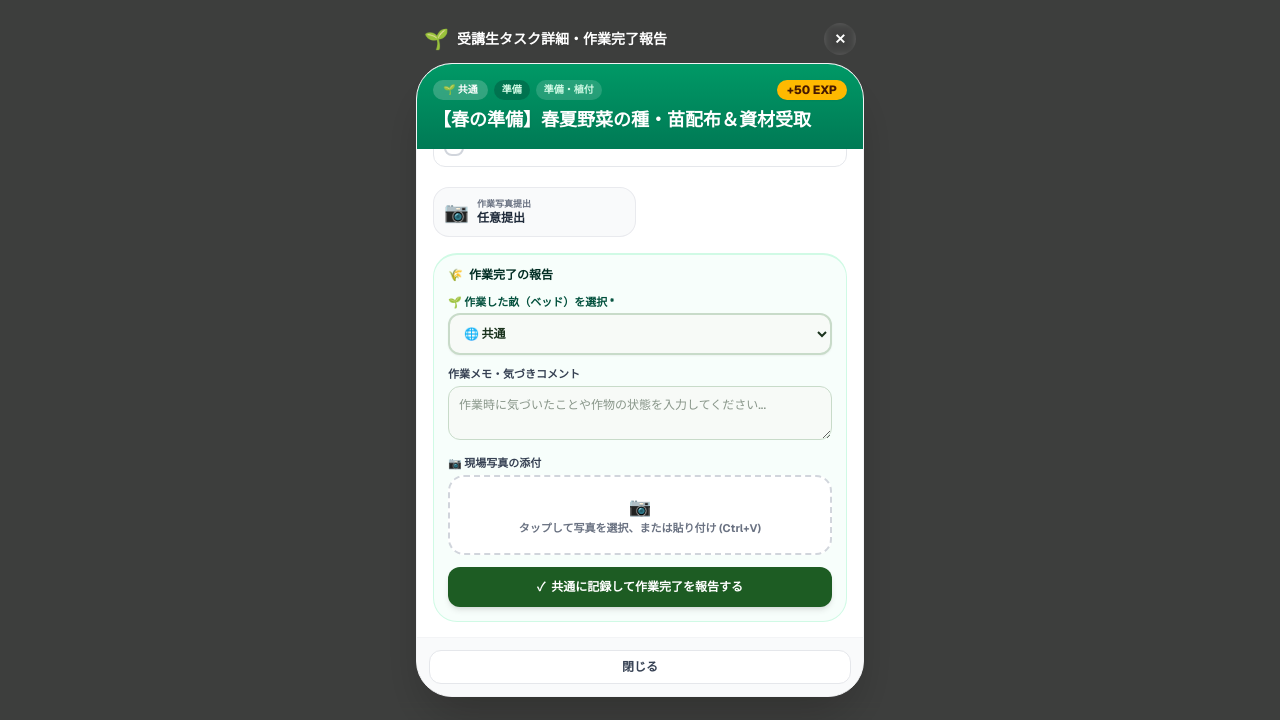
Test: TaskDetailModal Component - 全体共有タスクと畝選択の連動検証 › 保存処理失敗時に赤色エラーバナーが表示されること
This screenshot has width=1280, height=720.
(page scrolled)
Click the text "共通に記録して作業完了を報告する" at (647, 586), box 551,578 -> 743,594
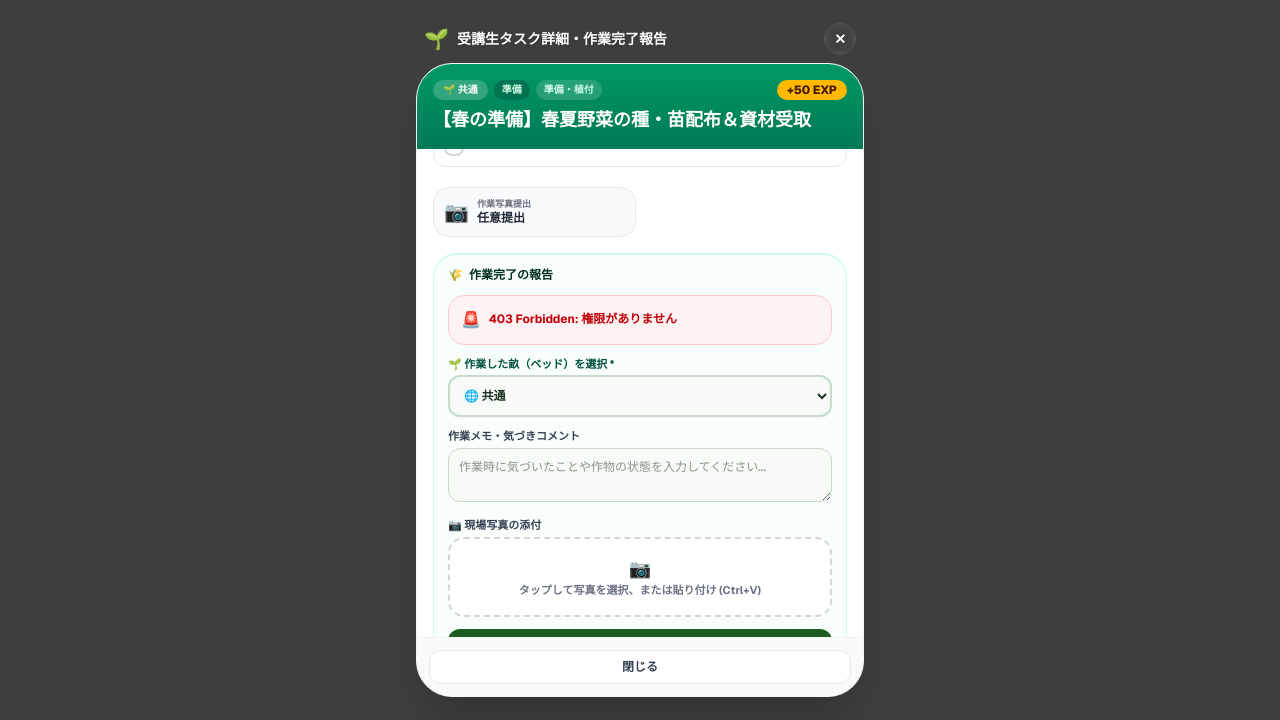
Expected: the text "403 Forbidden: 権限がありません" is shown, 489,311 -> 677,328
